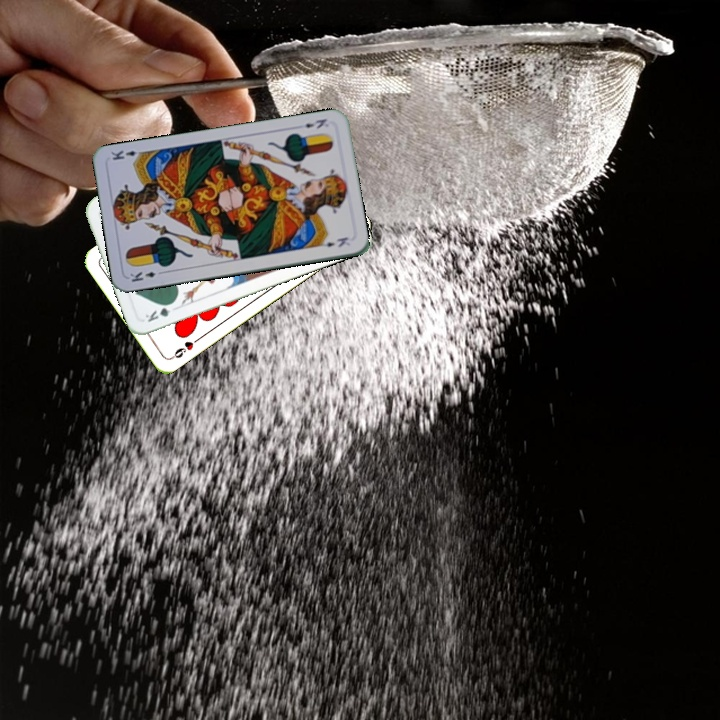EK: (126, 267, 166, 285), (301, 115, 329, 131)
GK: (141, 298, 180, 325)
H9: (167, 333, 203, 362)
